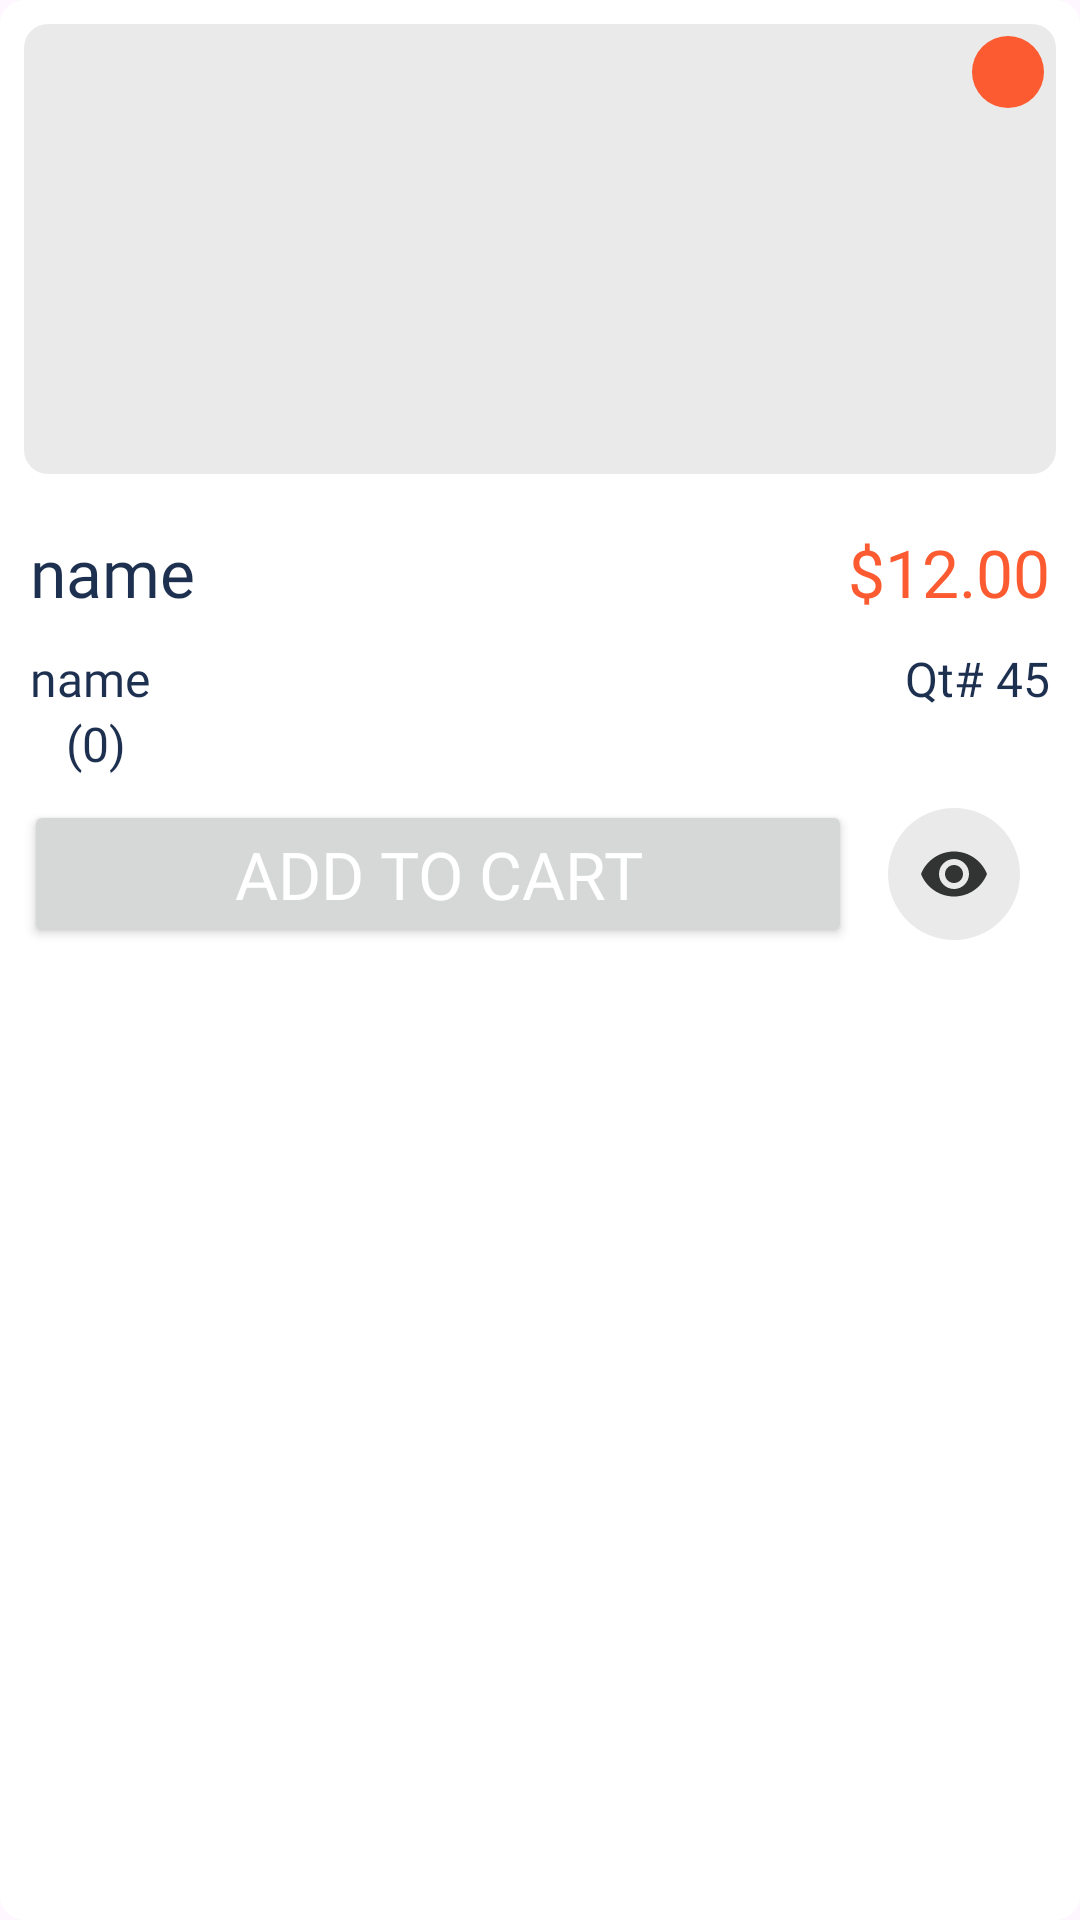

Named icons in this screenshot (1080×1920) and their centers, (x,y):
eye: (954,874)
